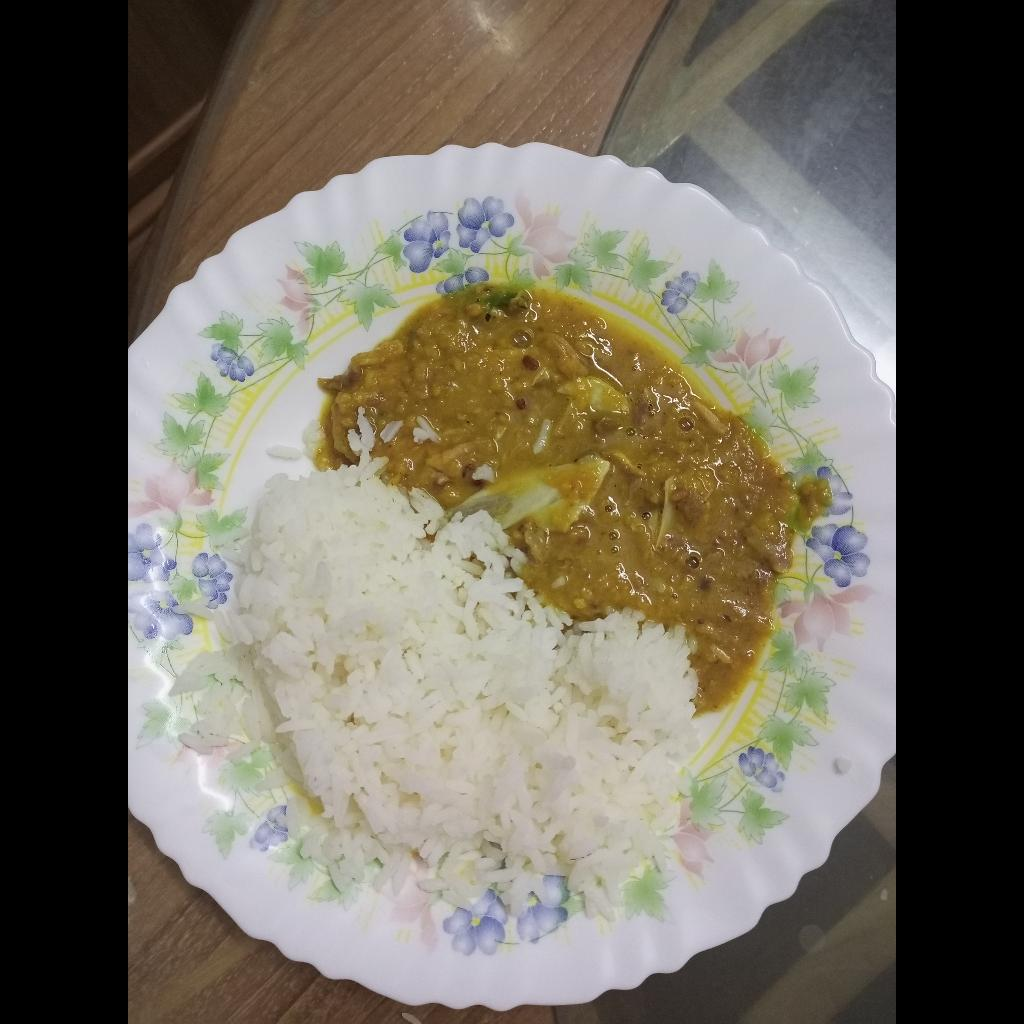daal: (312, 281, 833, 719)
rice: (167, 399, 694, 924)
